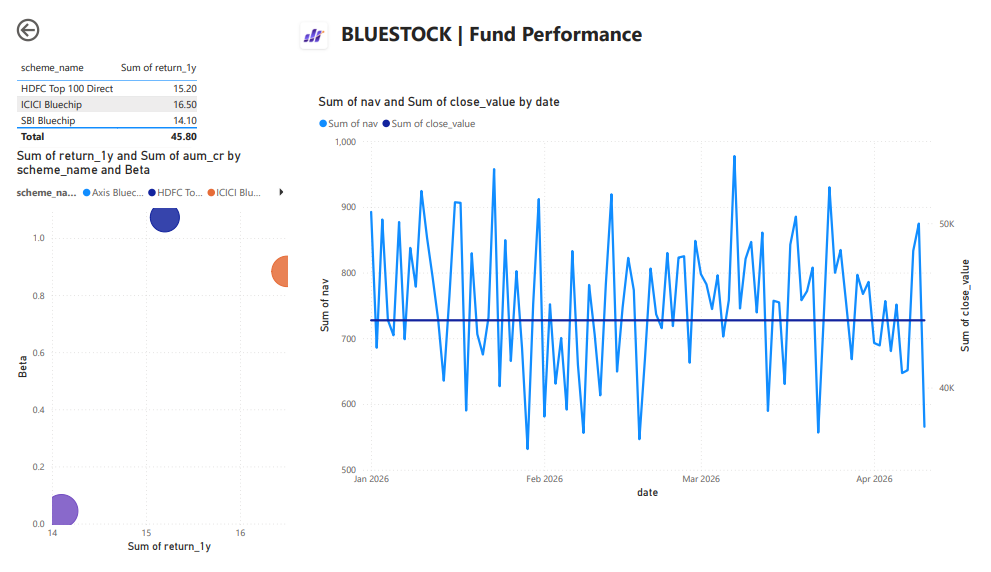

This screenshot's page, from the dashboard's own definition file:
{"tool":"powerbi","page":{"name":"Fund Performance","canvas":[1280,720],"ordinal":1},"visuals":[{"type":"tableEx","fields":{"Values":["01_fund_master_clean.scheme_name","Sum(07_scheme_performance_clean.return_1y)"]},"box":[0,54,250,136],"z":0},{"type":"scatterChart","fields":{"X":["Sum(07_scheme_performance_clean.return_1y)"],"Y":["alpha_beta.Beta"],"Size":["Sum(03_aum_by_fund_house_clean.aum_cr)"],"Series":["01_fund_master_clean.scheme_name"]},"box":[0,176.7,376.7,543.3],"z":1000},{"type":"lineChart","fields":{"Category":["02_nav_history_clean.date"],"Y":["Sum(02_nav_history_clean.nav)"],"Y2":["Sum(10_benchmark_indices_clean.close_value)"]},"box":[401.7,105,878.3,543.3],"z":2000},{"type":"actionButton","box":[0,0,100,40],"z":3000},{"type":"textbox","box":[431.7,0,418.3,50],"z":4000},{"type":"image","box":[345,0,111.7,53.3],"z":5000}]}

Visuals, with their boxes in screenshot pixels (x1, y1, x2, y2), scaled from the page's 1280x720 canvas onto the 991x572 screenshot:
tableEx - 01_fund_master_clean.scheme_name x Sum(07_scheme_performance_clean.return_1y): (0,43,194,151)
scatterChart - Sum(07_scheme_performance_clean.return_1y) x alpha_beta.Beta: (0,140,292,571)
lineChart - 02_nav_history_clean.date x Sum(02_nav_history_clean.nav): (311,83,990,515)
actionButton: (0,0,77,32)
textbox: (334,0,658,40)
image: (267,0,354,42)
